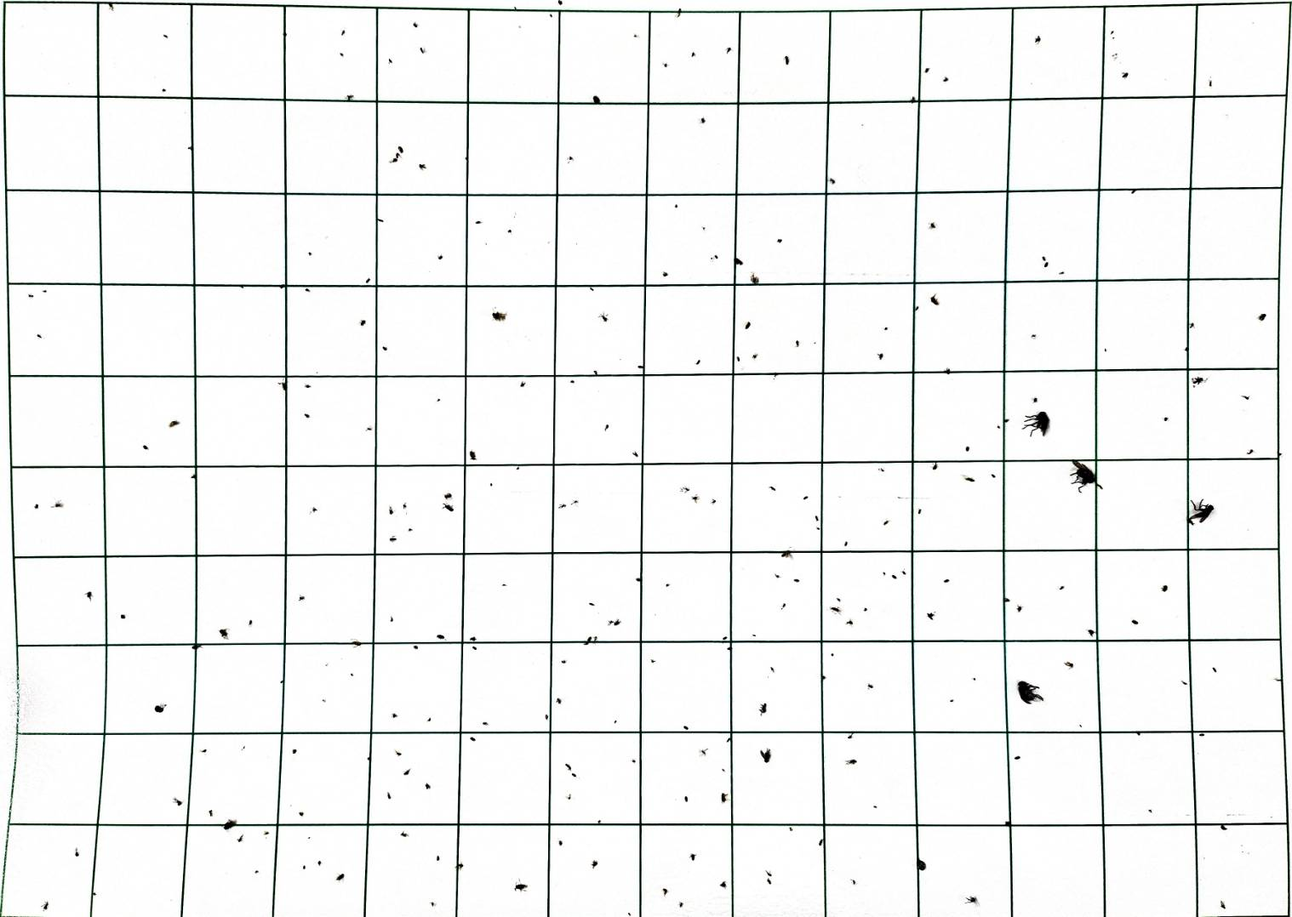fly: (1068, 459, 1101, 493), (1023, 409, 1050, 437), (1015, 678, 1040, 707), (1188, 499, 1213, 525)
test: (760, 746, 772, 762), (491, 309, 507, 321), (514, 879, 528, 891), (1191, 376, 1207, 386), (223, 818, 237, 829), (964, 894, 978, 904), (583, 635, 598, 644), (598, 312, 610, 323), (758, 701, 767, 715), (961, 474, 976, 482), (917, 858, 927, 870), (584, 284, 596, 294), (780, 549, 793, 558), (930, 294, 940, 305), (218, 628, 229, 638), (189, 471, 199, 482), (829, 605, 841, 614), (442, 502, 454, 511), (154, 703, 166, 712), (52, 500, 64, 508), (168, 419, 180, 427), (609, 618, 621, 626), (335, 872, 345, 881), (680, 485, 690, 494), (750, 274, 759, 284), (921, 65, 930, 75), (721, 791, 729, 802), (350, 638, 361, 646), (927, 611, 936, 620), (173, 796, 182, 805), (734, 257, 743, 266), (1064, 661, 1074, 669), (469, 450, 477, 460), (725, 44, 733, 54), (733, 353, 741, 363), (363, 275, 371, 285), (1041, 256, 1048, 267), (844, 758, 856, 764), (1086, 628, 1095, 636), (691, 494, 699, 503), (1220, 822, 1229, 830), (85, 590, 93, 599), (236, 833, 244, 842), (1259, 313, 1268, 321), (719, 879, 727, 888), (699, 748, 708, 756), (191, 643, 203, 649), (277, 381, 286, 389), (593, 95, 601, 104), (364, 424, 372, 433), (564, 154, 573, 162), (1004, 819, 1012, 828), (42, 900, 49, 910), (558, 502, 568, 509), (675, 8, 682, 18), (107, 3, 114, 13), (304, 380, 311, 390), (436, 253, 443, 263), (456, 861, 464, 869), (1121, 71, 1129, 79), (813, 524, 821, 532), (375, 215, 383, 223), (690, 852, 697, 861), (591, 859, 598, 868), (400, 830, 409, 837), (745, 321, 752, 330), (929, 462, 936, 471), (690, 49, 697, 58), (708, 253, 717, 260), (709, 497, 718, 504), (406, 525, 413, 534), (26, 292, 35, 299), (161, 32, 168, 41), (818, 837, 824, 847), (1241, 394, 1251, 400), (74, 846, 80, 856), (388, 505, 394, 515), (1271, 675, 1281, 681), (1016, 604, 1023, 612), (661, 887, 668, 895), (1161, 584, 1168, 592), (444, 492, 452, 499), (403, 767, 411, 774), (1034, 36, 1041, 44), (418, 163, 426, 170), (829, 177, 836, 185), (200, 746, 207, 754), (764, 869, 771, 877), (1196, 731, 1204, 738), (915, 506, 922, 514), (876, 467, 883, 475), (671, 202, 679, 209), (591, 369, 599, 376), (631, 451, 639, 458), (185, 144, 192, 152), (159, 88, 167, 95), (571, 498, 578, 506), (1220, 899, 1226, 908), (784, 56, 790, 65), (603, 423, 609, 432), (486, 482, 495, 488), (511, 465, 520, 471), (660, 62, 670, 67), (1004, 597, 1011, 604), (867, 682, 874, 689), (929, 222, 936, 229), (311, 506, 318, 513), (944, 367, 951, 374), (850, 877, 857, 884), (1188, 322, 1195, 329), (359, 319, 366, 326), (910, 96, 917, 103), (662, 270, 669, 277), (765, 878, 772, 885), (1135, 730, 1142, 737), (801, 495, 808, 502), (881, 520, 888, 527), (913, 304, 920, 311), (302, 287, 309, 294), (475, 219, 482, 226), (337, 50, 344, 57), (237, 284, 244, 291), (395, 153, 402, 160), (845, 619, 853, 625), (769, 485, 777, 491), (1131, 618, 1139, 624), (878, 352, 884, 360), (1246, 448, 1254, 454), (389, 535, 397, 541), (420, 46, 426, 54), (346, 94, 354, 100), (206, 808, 212, 816), (769, 666, 775, 674), (1029, 330, 1035, 338), (794, 338, 800, 346), (40, 287, 46, 295), (1131, 185, 1136, 194), (694, 359, 703, 364), (413, 20, 418, 29), (1032, 396, 1038, 403), (425, 782, 431, 789), (398, 145, 404, 152), (678, 900, 684, 907), (142, 444, 149, 450), (36, 333, 43, 339), (120, 613, 127, 619), (700, 117, 706, 124), (519, 381, 526, 387), (263, 830, 270, 836), (277, 678, 284, 684), (565, 763, 571, 770), (649, 657, 656, 663), (1002, 417, 1008, 424), (701, 224, 707, 231), (751, 352, 757, 359), (570, 377, 576, 384), (400, 503, 406, 510), (380, 345, 387, 351), (558, 838, 563, 846), (1208, 79, 1213, 87), (321, 696, 326, 704), (1109, 27, 1113, 37), (637, 364, 645, 369), (504, 229, 512, 234), (340, 28, 345, 36), (630, 33, 635, 41), (1212, 666, 1218, 672), (304, 412, 310, 418), (299, 595, 305, 601), (943, 76, 949, 82), (91, 891, 97, 897), (240, 746, 246, 752), (413, 645, 419, 651), (847, 732, 853, 738), (1147, 807, 1153, 813), (990, 473, 996, 479), (882, 323, 888, 329), (386, 56, 392, 62), (277, 283, 283, 289), (306, 835, 311, 842), (395, 749, 400, 756), (862, 605, 867, 612), (843, 539, 848, 546), (943, 578, 950, 583), (1180, 680, 1187, 685), (811, 515, 818, 520), (547, 12, 552, 19), (390, 159, 398, 163), (1056, 270, 1064, 274), (1014, 754, 1020, 759), (1163, 416, 1169, 421), (965, 445, 970, 451), (34, 503, 39, 509), (777, 238, 783, 243), (291, 749, 297, 754), (254, 869, 260, 874), (366, 756, 372, 761), (349, 673, 354, 679), (556, 698, 561, 704), (561, 659, 566, 665), (430, 900, 435, 906), (597, 819, 602, 825), (725, 737, 731, 742), (780, 602, 785, 608), (725, 646, 730, 652), (830, 651, 835, 657), (891, 574, 897, 579), (900, 570, 906, 575), (948, 698, 954, 703), (1059, 585, 1064, 591), (1077, 723, 1083, 728), (434, 398, 439, 404), (467, 737, 474, 741), (567, 792, 571, 799), (835, 597, 842, 601), (308, 249, 312, 256), (301, 864, 306, 869), (316, 861, 321, 866), (389, 615, 394, 620), (437, 634, 442, 639), (482, 722, 487, 727), (588, 601, 593, 606), (636, 577, 641, 582), (435, 856, 440, 861), (572, 773, 577, 778), (683, 724, 688, 729), (664, 582, 669, 587), (722, 635, 727, 640), (751, 632, 756, 637), (821, 674, 826, 679), (1103, 347, 1108, 352), (297, 811, 303, 815), (248, 621, 254, 625), (470, 646, 476, 650), (391, 712, 397, 716), (386, 792, 390, 797), (426, 717, 431, 721), (501, 582, 506, 586), (683, 797, 688, 801), (774, 573, 779, 577), (873, 803, 877, 808), (882, 571, 886, 576), (995, 424, 999, 429), (792, 580, 798, 583), (470, 636, 474, 640), (613, 720, 617, 724), (630, 758, 634, 762), (721, 768, 725, 772), (787, 827, 791, 831), (971, 676, 975, 680), (545, 714, 548, 718)
